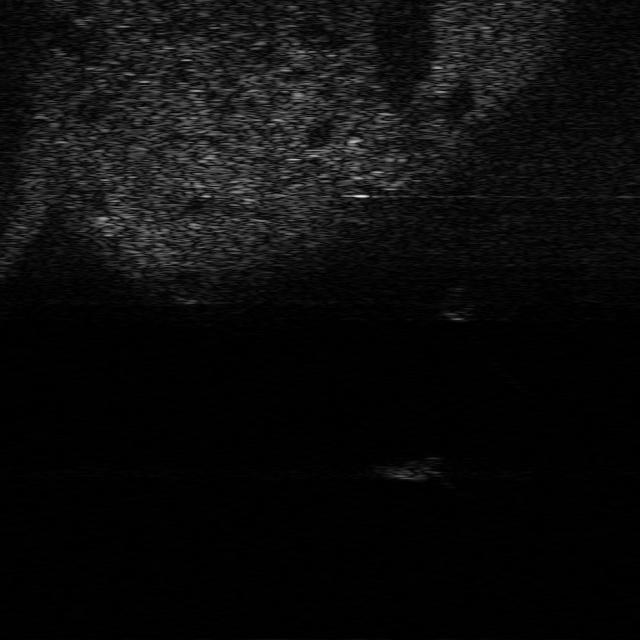ball: (432, 286, 477, 321)
cube: (373, 457, 448, 482)
